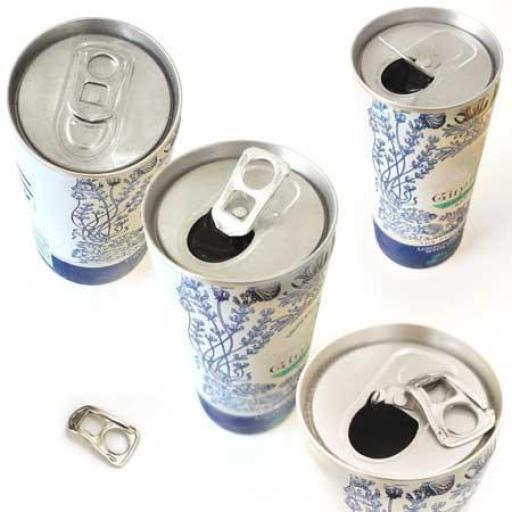can: (139, 138, 336, 439), (9, 18, 181, 289), (350, 6, 506, 272), (297, 317, 509, 512)
pop tab: (402, 366, 497, 452), (215, 139, 287, 247), (66, 37, 129, 132)
